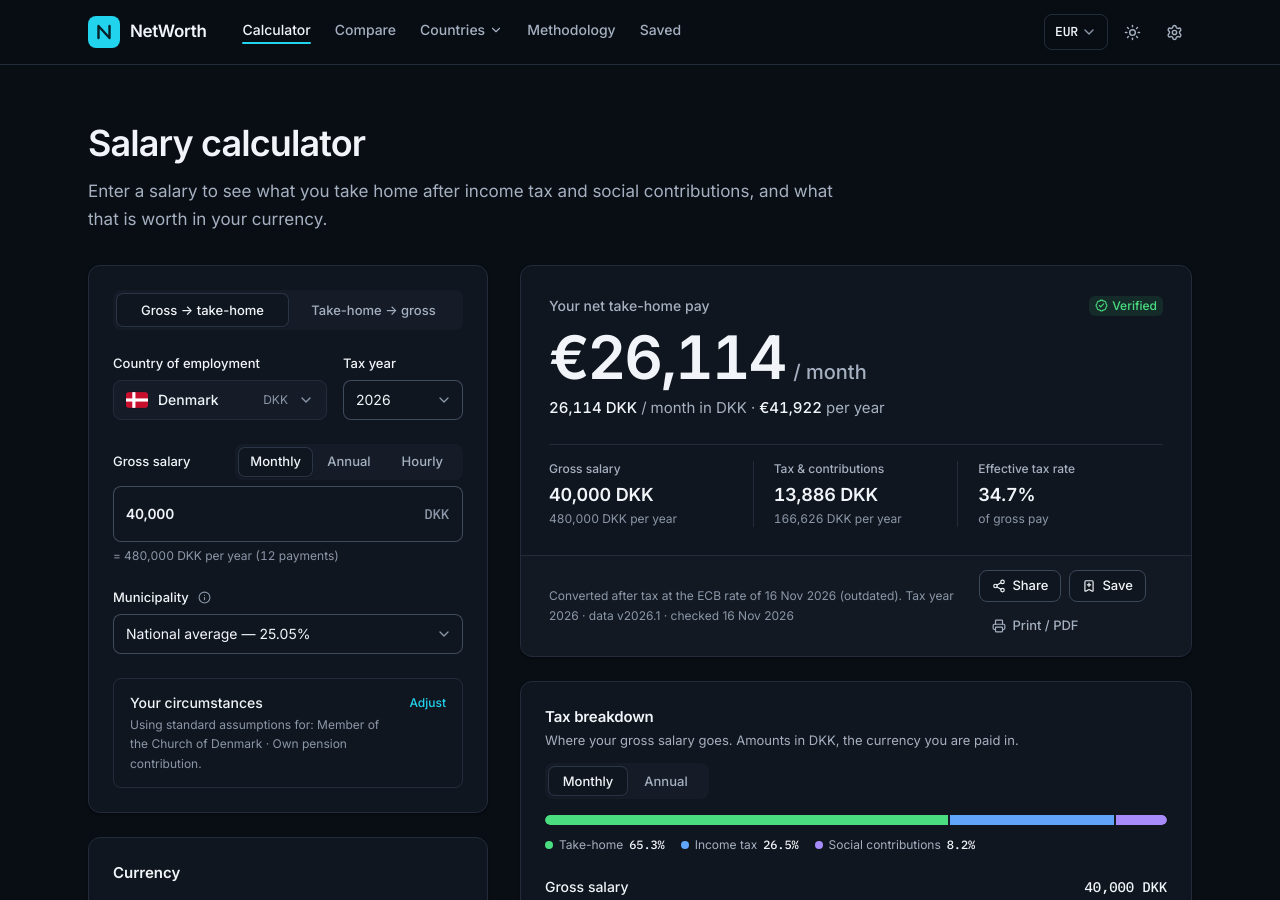
Test: calculator › updates the result while typing and shows the annual equivalent
Replace the text in the field named "Gross monthly salary in DKK" with "55000": (288, 514) [113,486,463,542]
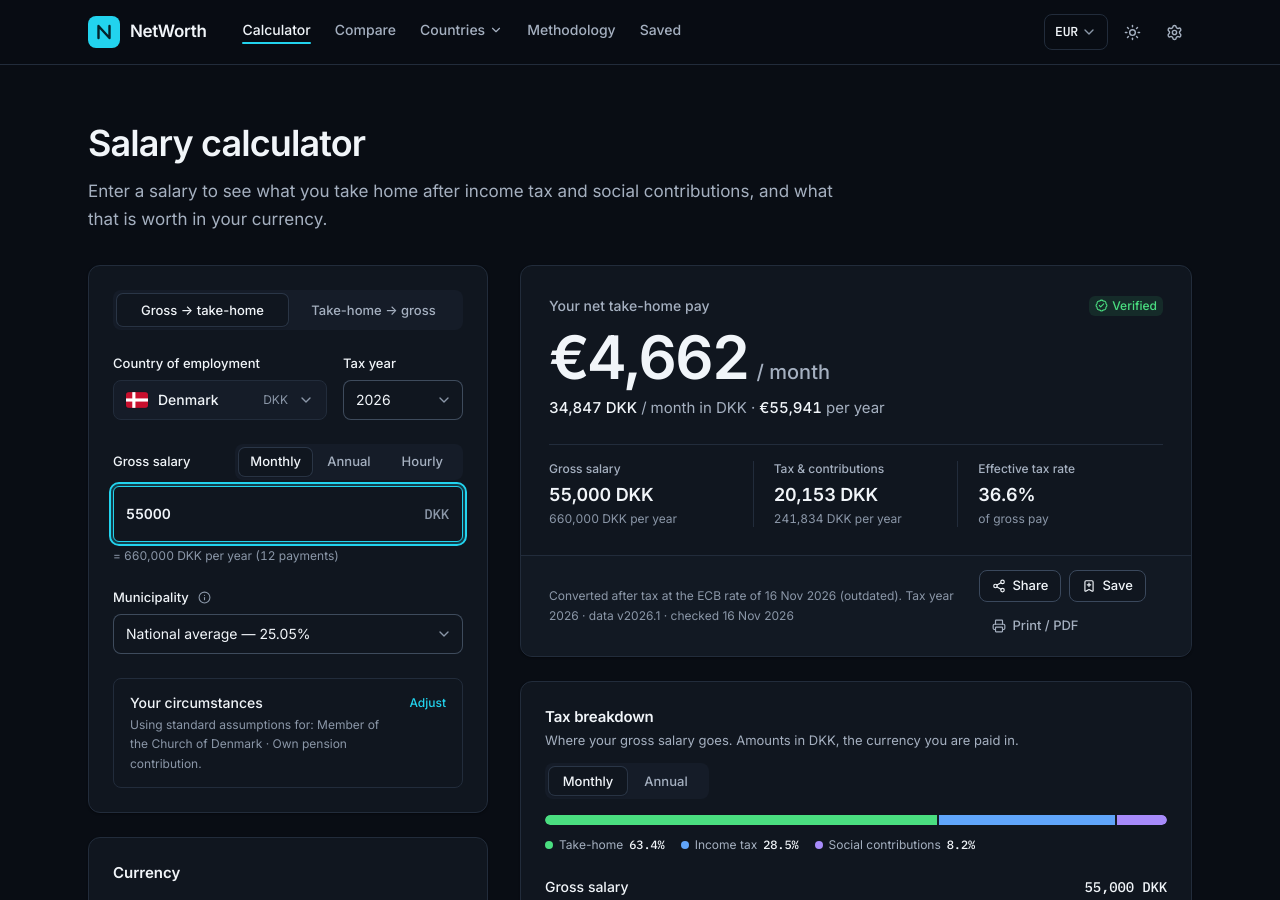
Result: the text "= 660,000 DKK per year (12 payments)" is shown at [113,548,339,563]
Result: the text with test id "breakdown-net" no longer shows "26,114"
